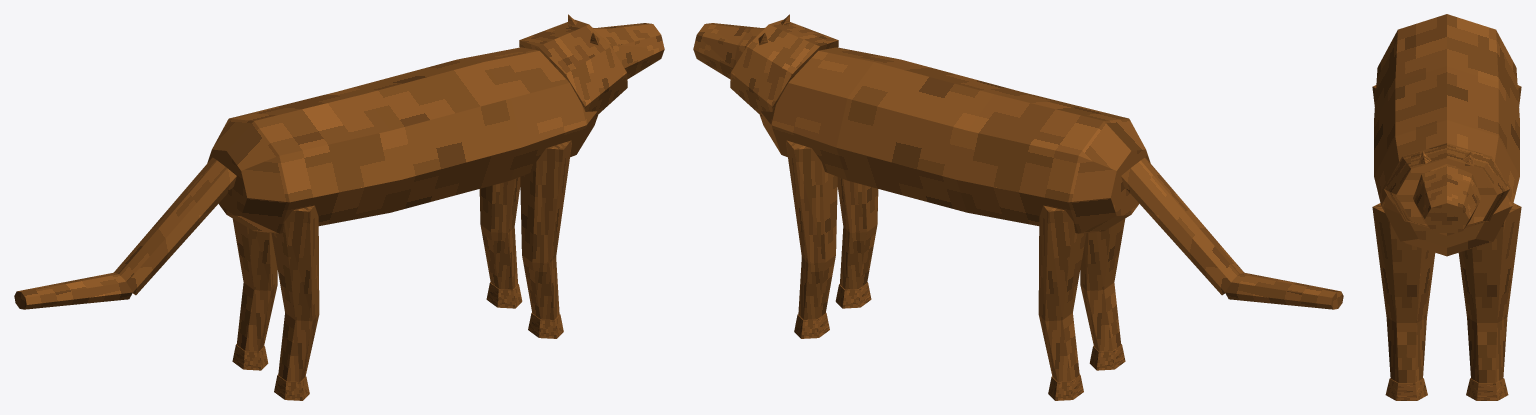
Rendered from puma.glb.
3 renders of one model, left to right at view 1: azimuth 30°, elevation 25°; view 2: azimuth 150°, elevation 25°; view 3: azimuth 270°, elevation 25°, orthographic. The views are drawn at different scales.
Parts seen in each view (by area): view 1: cuerpo, cola, pata_delantera_der, pata_trasera_der, cuello, pata_trasera_izq, pata_delantera_izq, cabeza, pezuna_delantera_der, pezuna_trasera_der, pezuna_delantera_izq, pezuna_trasera_izq; view 2: cuerpo, cola, pata_delantera_izq, pata_trasera_izq, cuello, pata_trasera_der, pata_delantera_der, cabeza, pezuna_delantera_izq, pezuna_trasera_izq, pezuna_delantera_der, pezuna_trasera_der; view 3: cuerpo, pata_delantera_izq, pata_delantera_der, cuello, cabeza, pezuna_delantera_izq, pezuna_delantera_der, orejas.
Part boxes in pixels (bbox=[...]): cuerpo: bbox=[207, 47, 597, 233]; cola: bbox=[14, 157, 236, 309]; pata_delantera_der: bbox=[520, 140, 571, 319]; pata_trasera_der: bbox=[271, 205, 319, 381]; cuello: bbox=[519, 19, 627, 116]; pata_trasera_izq: bbox=[232, 219, 277, 351]; pata_delantera_izq: bbox=[479, 177, 520, 289]; cabeza: bbox=[593, 23, 664, 79]; pezuna_delantera_der: bbox=[528, 313, 563, 338]; pezuna_trasera_der: bbox=[274, 374, 309, 400]; pezuna_delantera_izq: bbox=[486, 282, 522, 308]; pezuna_trasera_izq: bbox=[232, 344, 268, 370]; cuerpo: bbox=[760, 47, 1150, 233]; cola: bbox=[1121, 157, 1343, 309]; pata_delantera_izq: bbox=[786, 140, 837, 319]; pata_trasera_izq: bbox=[1038, 205, 1086, 381]; cuello: bbox=[730, 19, 838, 116]; pata_trasera_der: bbox=[1080, 219, 1125, 351]; pata_delantera_der: bbox=[837, 177, 878, 289]; cabeza: bbox=[693, 23, 764, 79]; pezuna_delantera_izq: bbox=[794, 313, 829, 338]; pezuna_trasera_izq: bbox=[1048, 374, 1083, 400]; pezuna_delantera_der: bbox=[835, 282, 871, 308]; pezuna_trasera_der: bbox=[1089, 344, 1125, 370]; cuerpo: bbox=[1374, 14, 1519, 256]; pata_delantera_izq: bbox=[1458, 203, 1521, 382]; pata_delantera_der: bbox=[1372, 203, 1435, 382]; cuello: bbox=[1384, 143, 1509, 227]; cabeza: bbox=[1413, 164, 1480, 235]; pezuna_delantera_izq: bbox=[1466, 378, 1508, 400]; pezuna_delantera_der: bbox=[1385, 378, 1427, 400]; orejas: bbox=[1419, 151, 1474, 164].
Size of the model in its own units: 1.9 by 0.8 by 0.4.
Materials: 1 (1 with a texture image).
